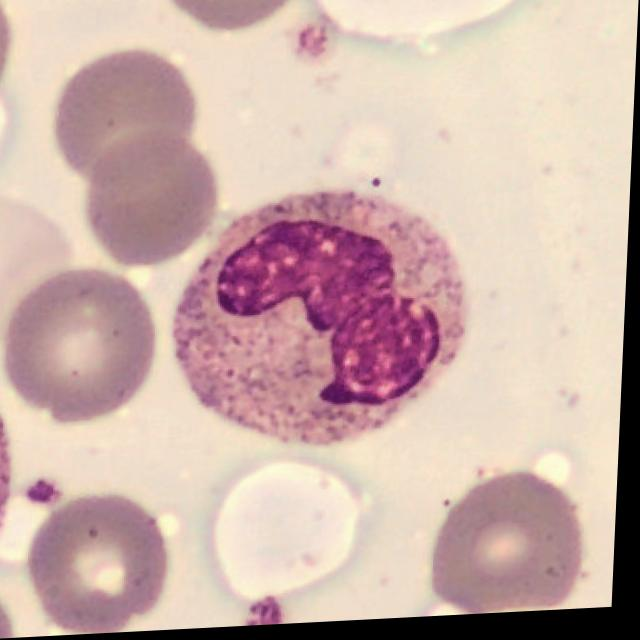Neutrofilo segmentado: (171, 198, 477, 451)
